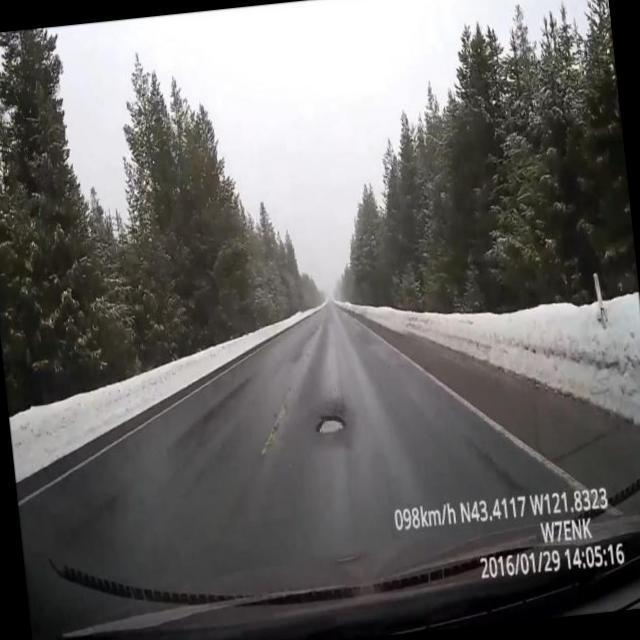Pothole: (314, 413, 347, 436)
